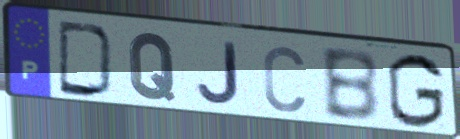B: (317, 47, 382, 125)
C: (260, 43, 308, 115)
D: (55, 17, 118, 100)
G: (384, 51, 447, 131)
J: (195, 39, 243, 107)
Q: (126, 30, 178, 103)
